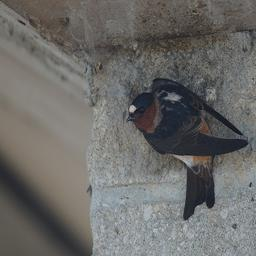Swallow: (125, 75, 250, 219)
